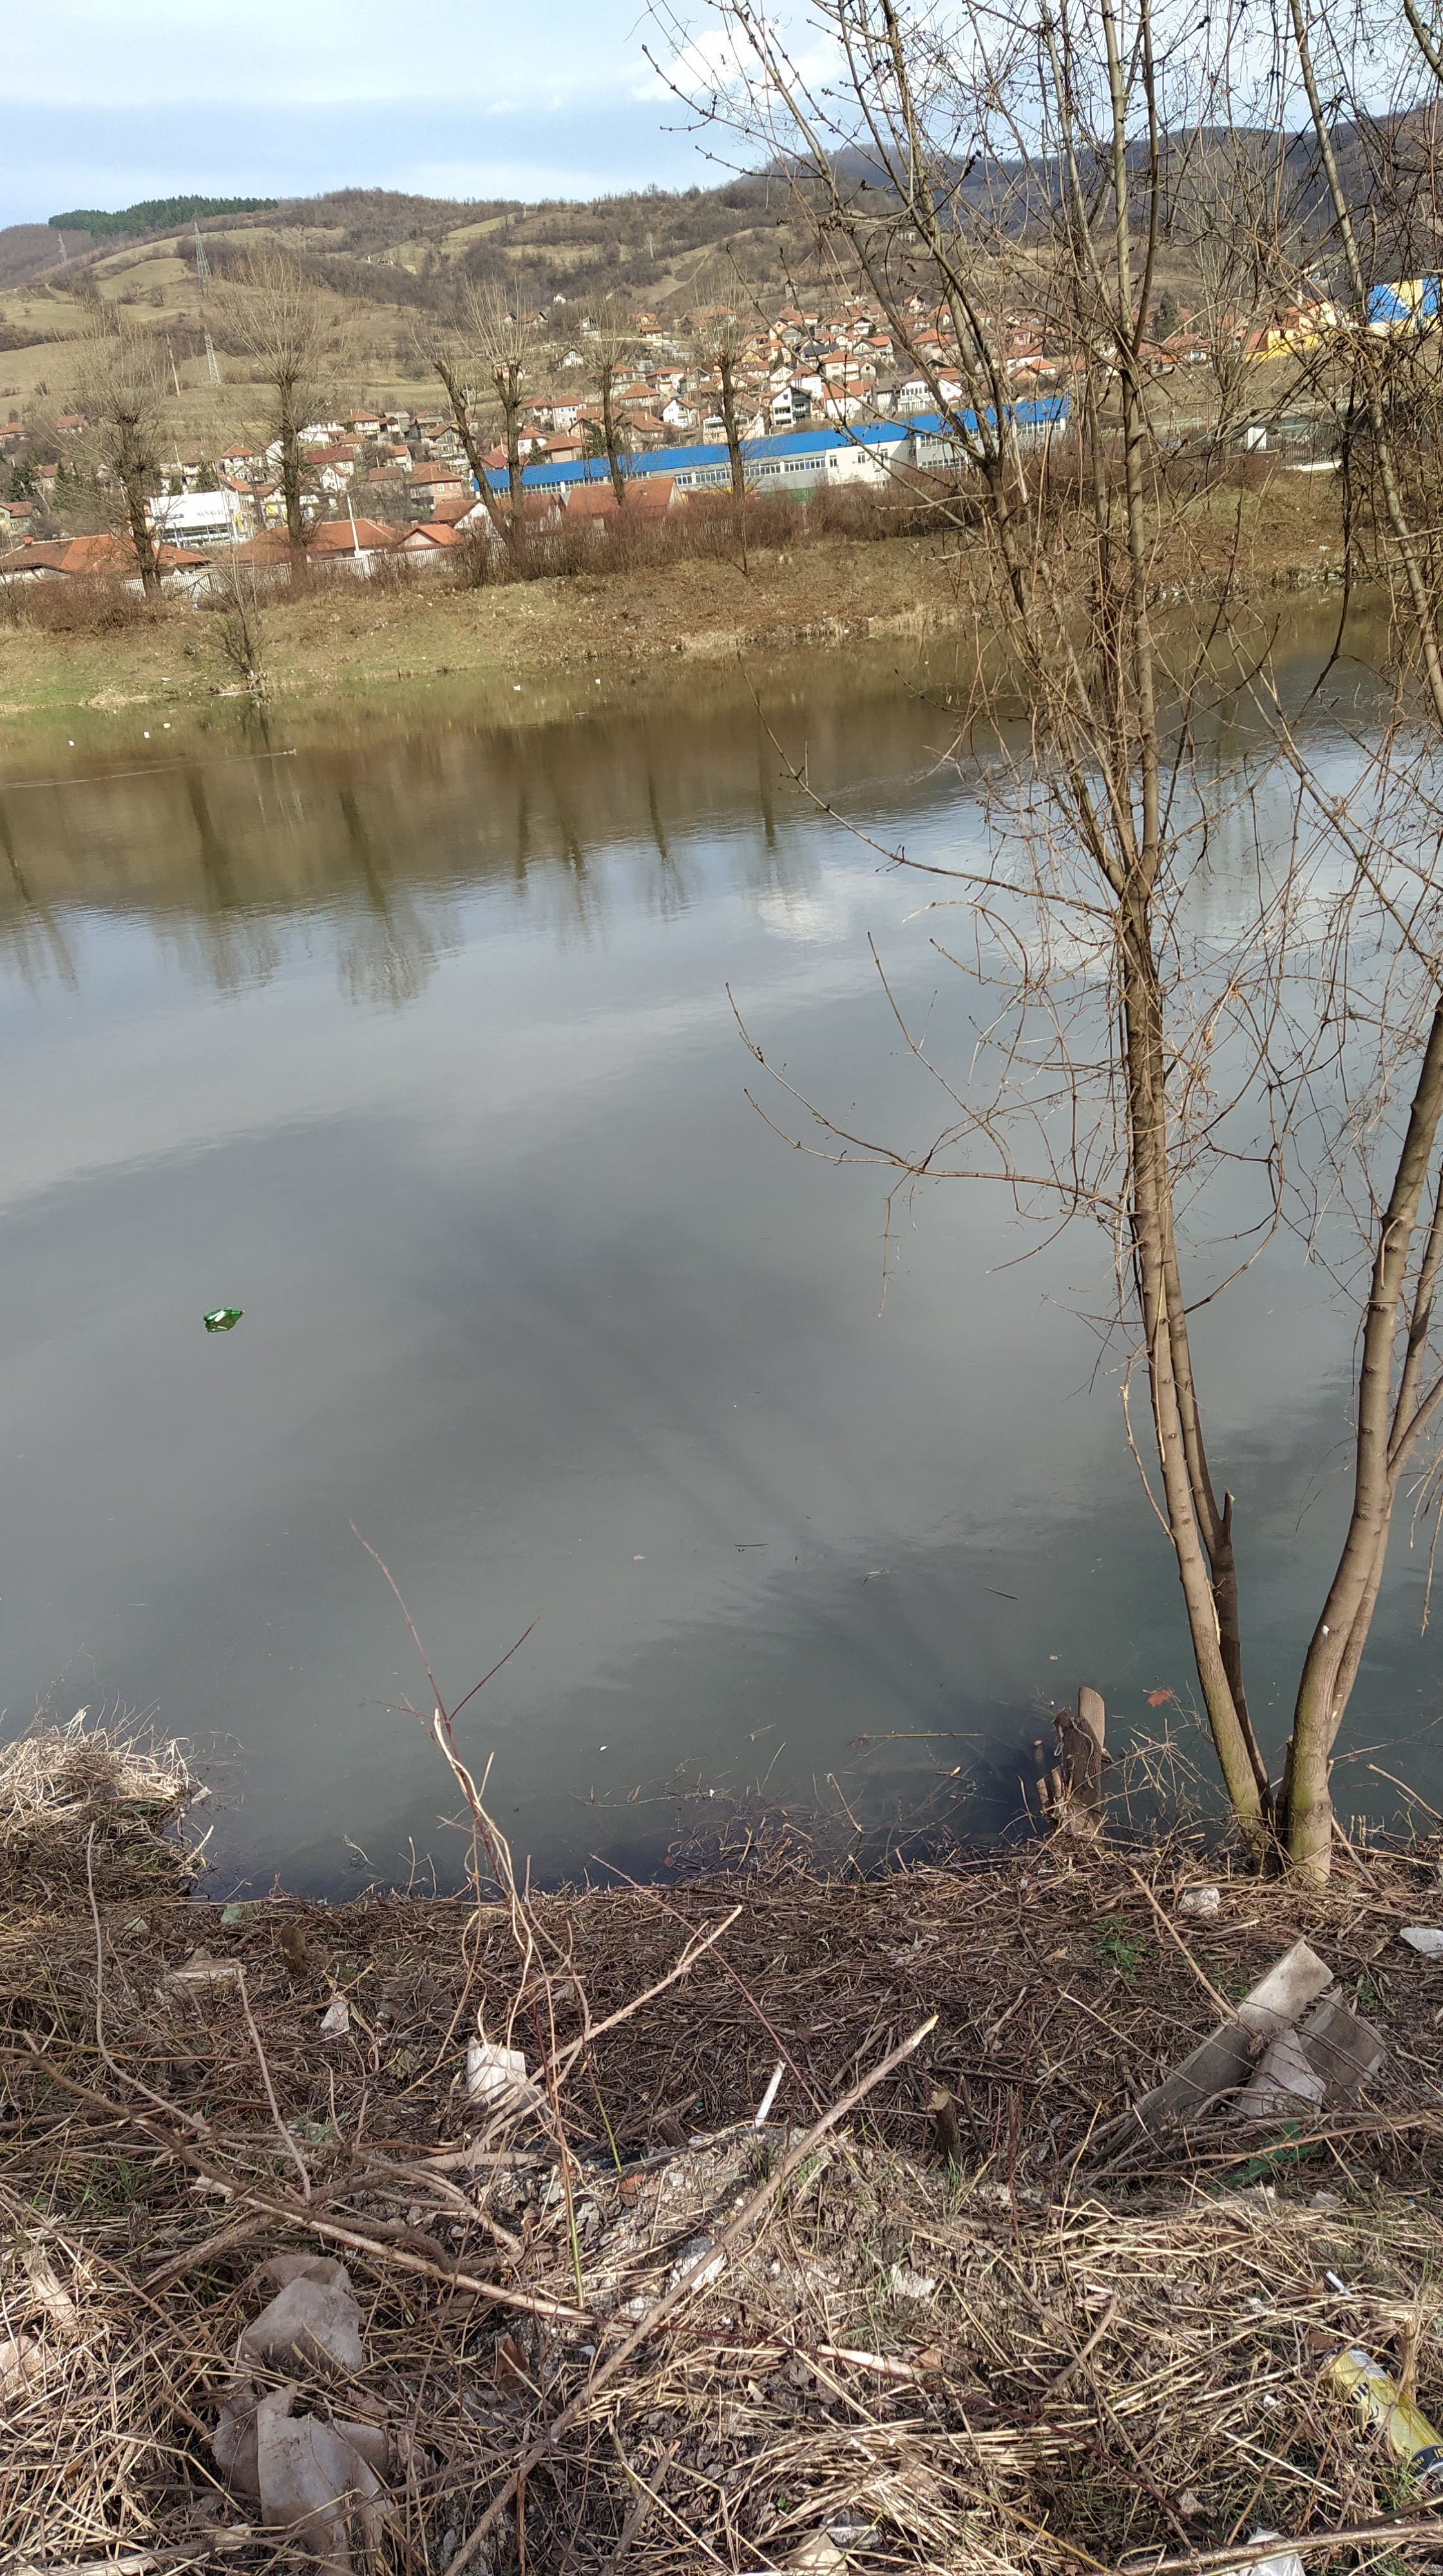Plastic Bottle: (204, 1307, 246, 1329)
